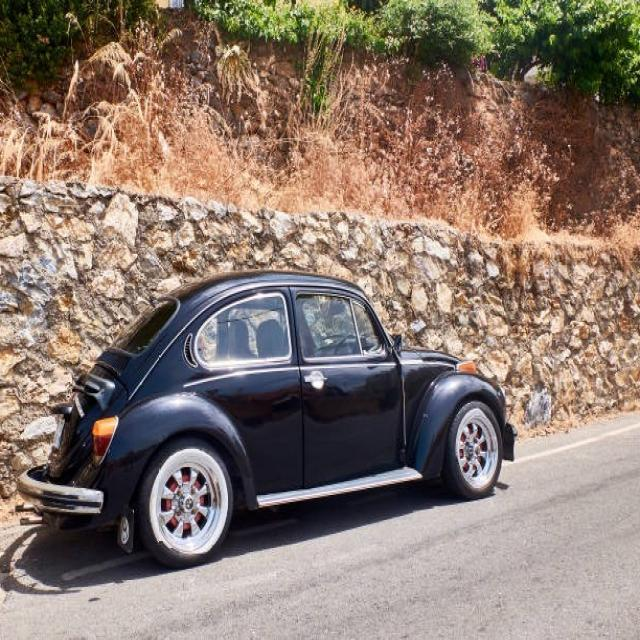car: (25, 269, 505, 553)
